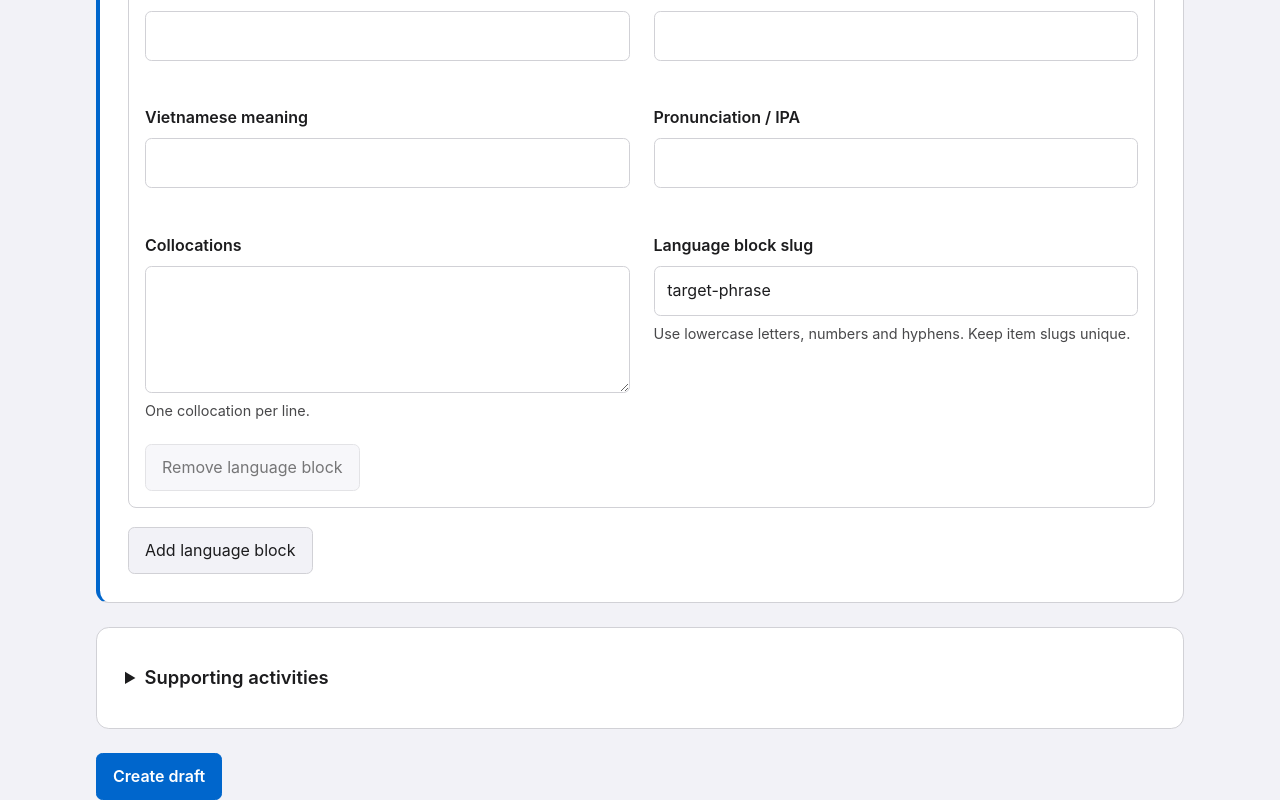
IntermediateLessonEditor › makes grammar inputs primary with optional supporting activities
The image size is (1280, 800).
(page scrolled)
Click the heading "Supporting activities".
click(237, 677)  # box [144, 666, 329, 688]
(page scrolled)
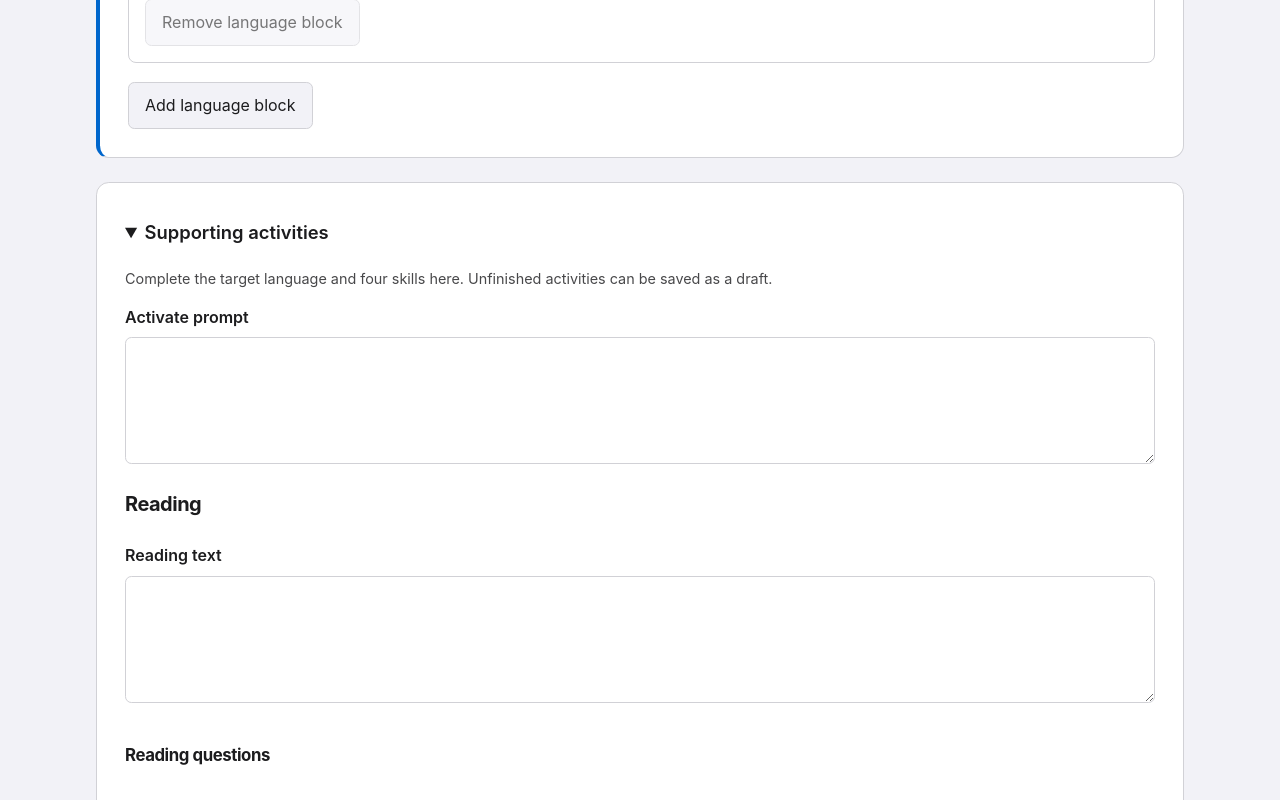
Check: the text box labelled "Activate prompt" is shown, box [125, 338, 1155, 464]
